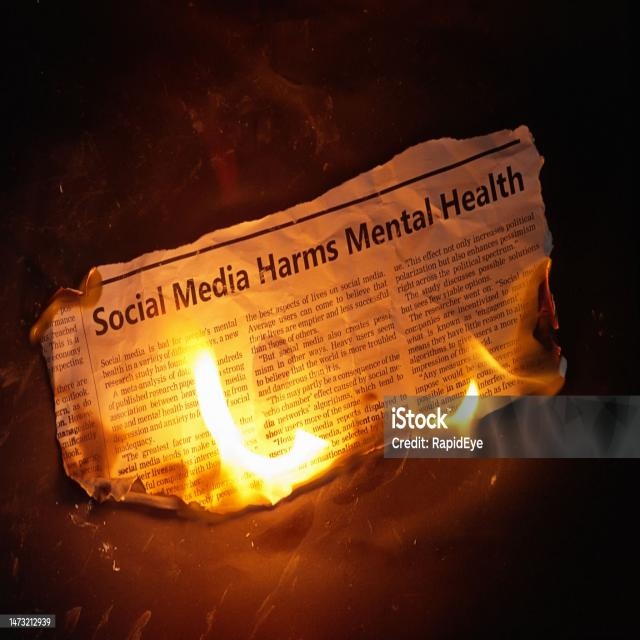fire: (193, 350, 263, 500), (264, 429, 332, 503), (468, 330, 547, 385), (450, 377, 479, 438)
